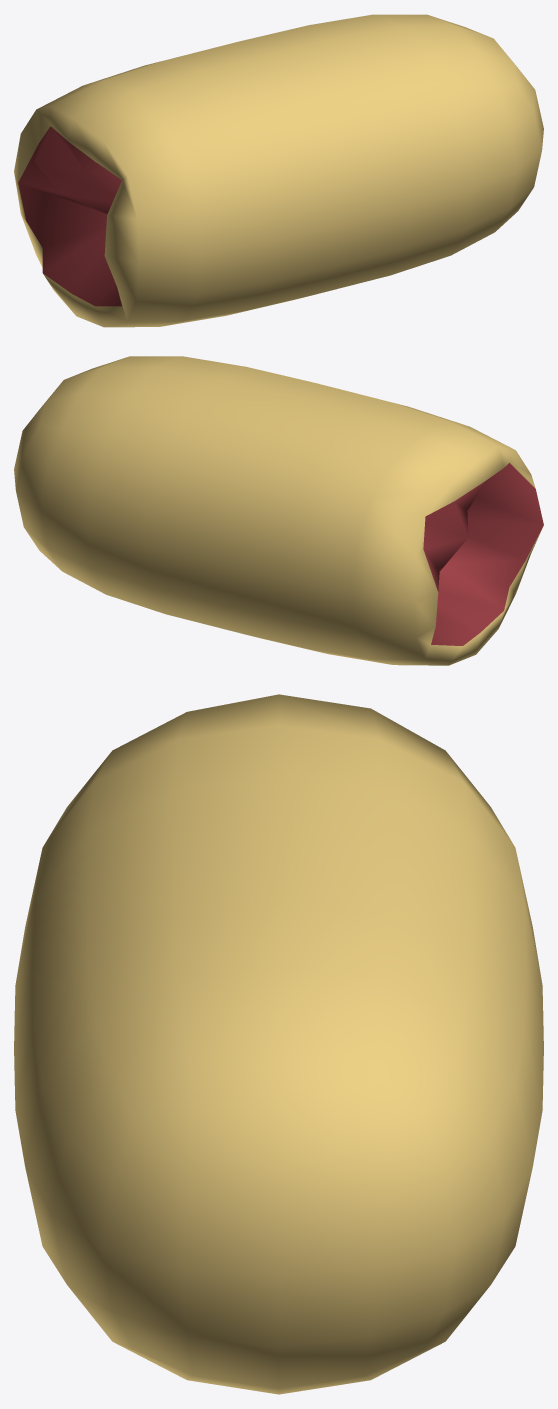
Rendered from MidArm_Dism.fbx.
3 views of the same model, one above another, from view 1: azimuth 30°, elevation 25°; view 2: azimuth 150°, elevation 25°; view 3: azimuth 270°, elevation 25° (orthographic). The views are drawn at different scales.
Parts seen in each view (by area): view 1: MidArm_L.001; view 2: MidArm_L.001; view 3: MidArm_L.001.
Part boxes in pixels (x1,y1,x2,y2): MidArm_L.001: [14, 14, 543, 327]; MidArm_L.001: [14, 356, 543, 665]; MidArm_L.001: [14, 694, 543, 1394].
Bounding box in the file's own units: 94.56 × 44.52 × 50.79.
